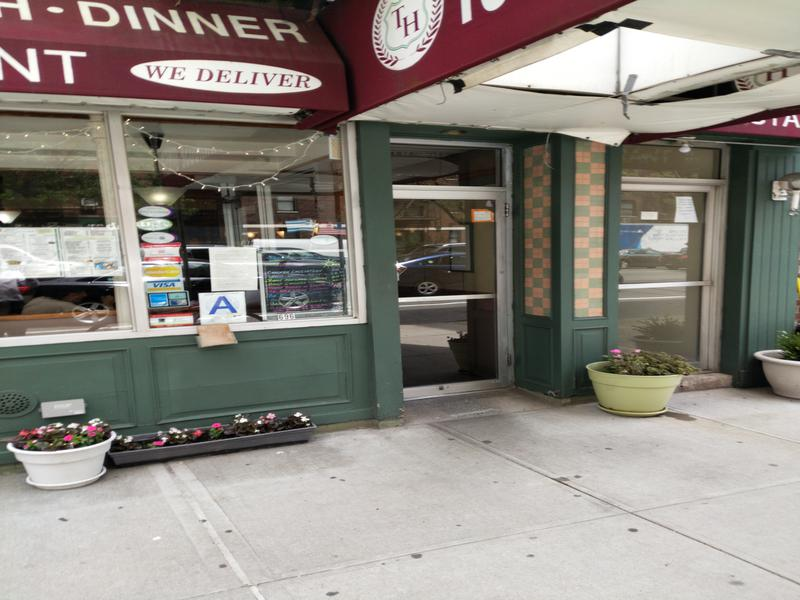door: (389, 176, 525, 401)
